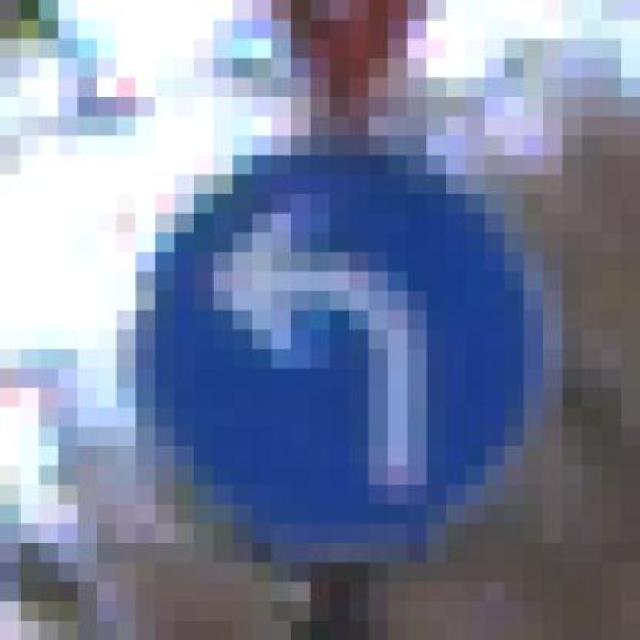Turn left ahead: (116, 136, 562, 582)
